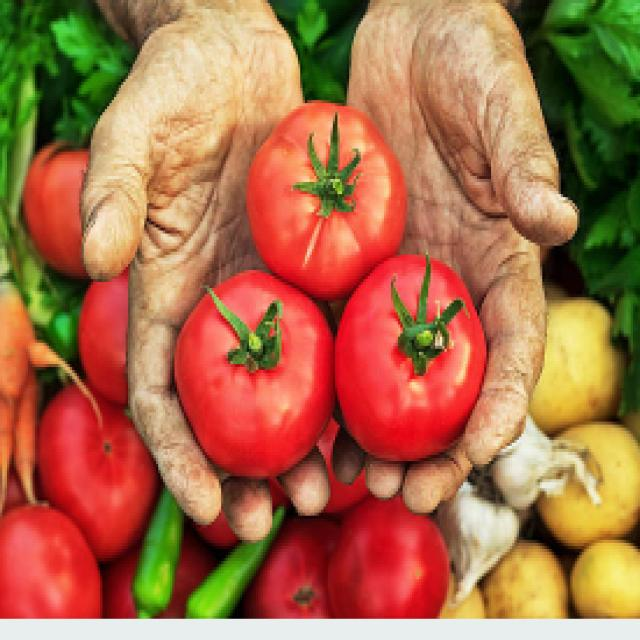Tomato: (323, 250, 494, 478), (239, 83, 421, 293), (164, 260, 337, 476)
